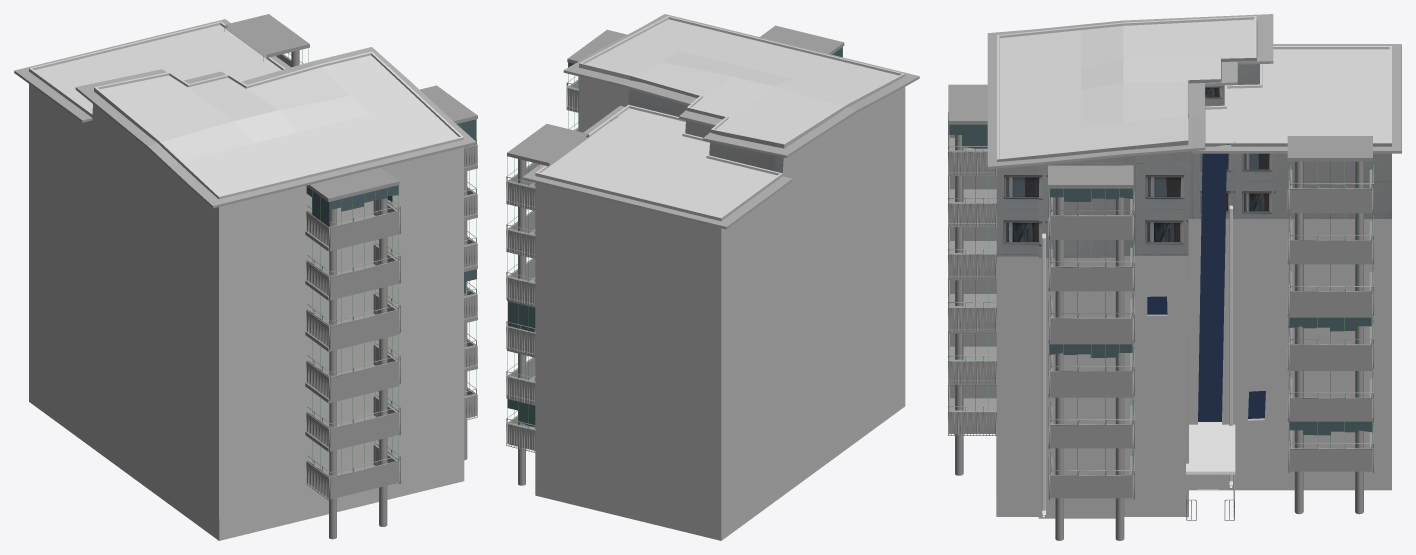
The model's file is haapalinna_entinen_koti.fbx.
3 renders of one model, left to right at view 1: azimuth 30°, elevation 25°; view 2: azimuth 150°, elevation 25°; view 3: azimuth 270°, elevation 25°, orthographic. The views are drawn at different scales.
Parts seen in each view (by area): view 1: Plane; view 2: Plane; view 3: Plane.
Boxes of the visible parts, bbox=[...] form: Plane: bbox=[14, 14, 477, 540]; Plane: bbox=[506, 14, 919, 540]; Plane: bbox=[948, 14, 1401, 540].
Size of the model in its own units: 1671 by 2002 by 2146.
